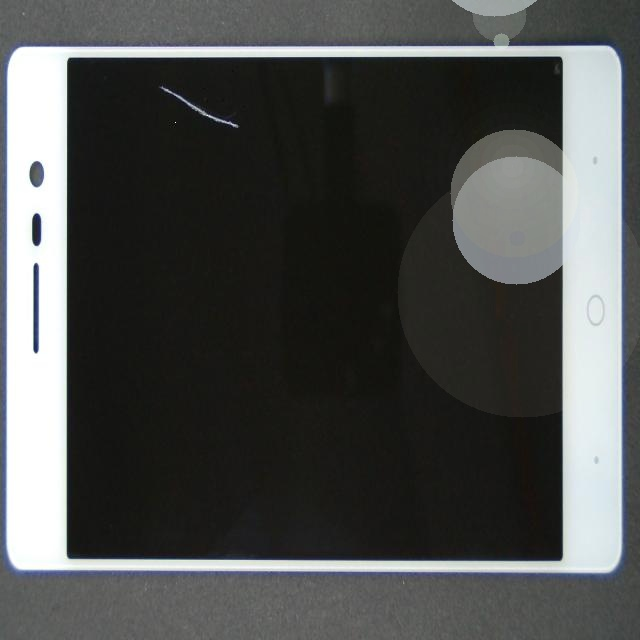scratch: (25, 42, 265, 196)
